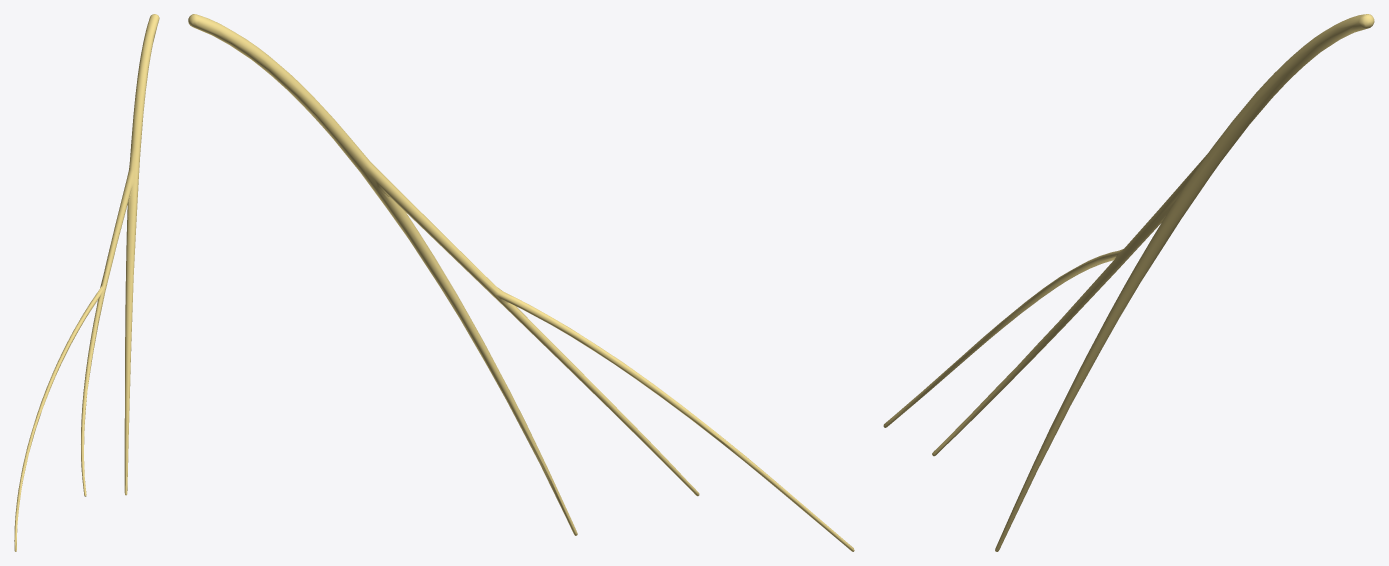
File: fma52942_fj3930.glb
3 views of the same model, side by side, from view 1: azimuth 30°, elevation 25°; view 2: azimuth 150°, elevation 25°; view 3: azimuth 270°, elevation 25° (orthographic). The views are drawn at different scales.
Parts seen in each view (by area): view 1: FMA52942_FJ3930; view 2: FMA52942_FJ3930; view 3: FMA52942_FJ3930.
Boxes of the visible parts, bbox=[...] form: FMA52942_FJ3930: bbox=[14, 14, 159, 551]; FMA52942_FJ3930: bbox=[188, 14, 854, 551]; FMA52942_FJ3930: bbox=[883, 14, 1374, 551].
Bounding box in the file's own units: 0.0258 × 0.0327 × 0.0223.
